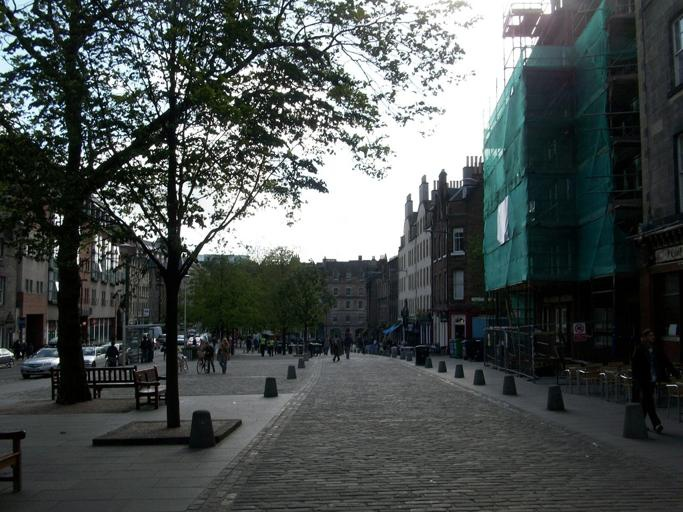non-vehicle: (195, 350, 207, 374), (176, 349, 188, 373)
